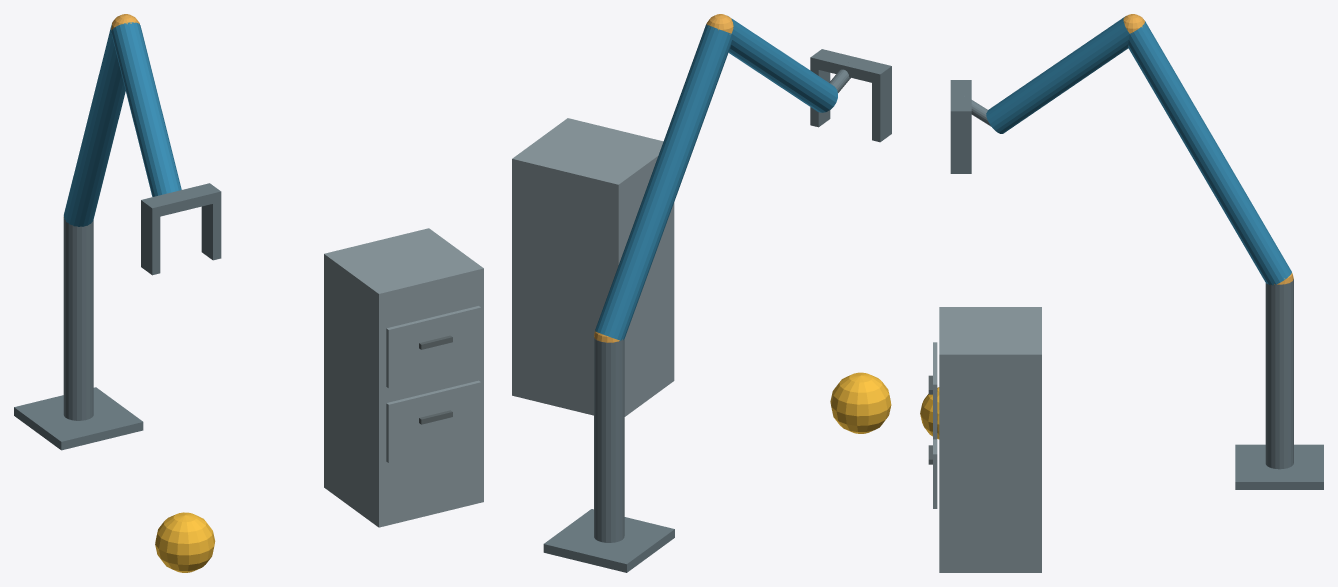
3 renders of one model, left to right at view 1: azimuth 30°, elevation 25°; view 2: azimuth 150°, elevation 25°; view 3: azimuth 270°, elevation 25°, orthographic. The views are drawn at different scales.
Parts seen in each view (by area): view 1: cabinet_1 body, fixed post, cabinet_1 drawer front, cabinet_1 drawer front.001, moving link 2, moving link 1, pedestal, ball ball_1, gripper bridge, gripper finger -1, gripper finger 1; view 2: cabinet_1 body, moving link 1, fixed post, pedestal, moving link 2, ball ball_1, gripper bridge, gripper finger -1; view 3: cabinet_1 body, moving link 1, fixed post, moving link 2, pedestal, gripper finger 1, gripper bridge, ball ball_1.
Boxes of the visible parts, x1=… form: cabinet_1 body: x1=324, y1=228, x2=483, y2=527; fixed post: x1=63, y1=216, x2=93, y2=420; cabinet_1 drawer front: x1=386, y1=380, x2=480, y2=462; cabinet_1 drawer front.001: x1=386, y1=306, x2=480, y2=388; moving link 2: x1=111, y1=22, x2=181, y2=196; moving link 1: x1=63, y1=24, x2=125, y2=226; pedestal: x1=14, y1=387, x2=143, y2=450; ball ball_1: x1=155, y1=512, x2=215, y2=572; gripper bridge: x1=141, y1=183, x2=221, y2=218; gripper finger -1: x1=141, y1=210, x2=160, y2=275; gripper finger 1: x1=201, y1=202, x2=221, y2=260; cabinet_1 body: x1=512, y1=118, x2=674, y2=416; moving link 1: x1=595, y1=24, x2=732, y2=340; fixed post: x1=594, y1=336, x2=624, y2=542; pedestal: x1=543, y1=509, x2=674, y2=572; moving link 2: x1=728, y1=18, x2=837, y2=112; ball ball_1: x1=830, y1=372, x2=891, y2=433; gripper bridge: x1=810, y1=49, x2=891, y2=84; gripper finger -1: x1=872, y1=76, x2=891, y2=142; cabinet_1 body: x1=939, y1=307, x2=1041, y2=572; moving link 1: x1=1128, y1=21, x2=1291, y2=285; fixed post: x1=1265, y1=279, x2=1293, y2=469; moving link 2: x1=986, y1=17, x2=1129, y2=133; pedestal: x1=1235, y1=444, x2=1323, y2=489; gripper finger 1: x1=950, y1=121, x2=971, y2=173; gripper bridge: x1=950, y1=80, x2=971, y2=120; ball ball_1: x1=920, y1=387, x2=939, y2=439.
Bounding box in the file's own units: 0.9919 × 1.38 × 1.14.
